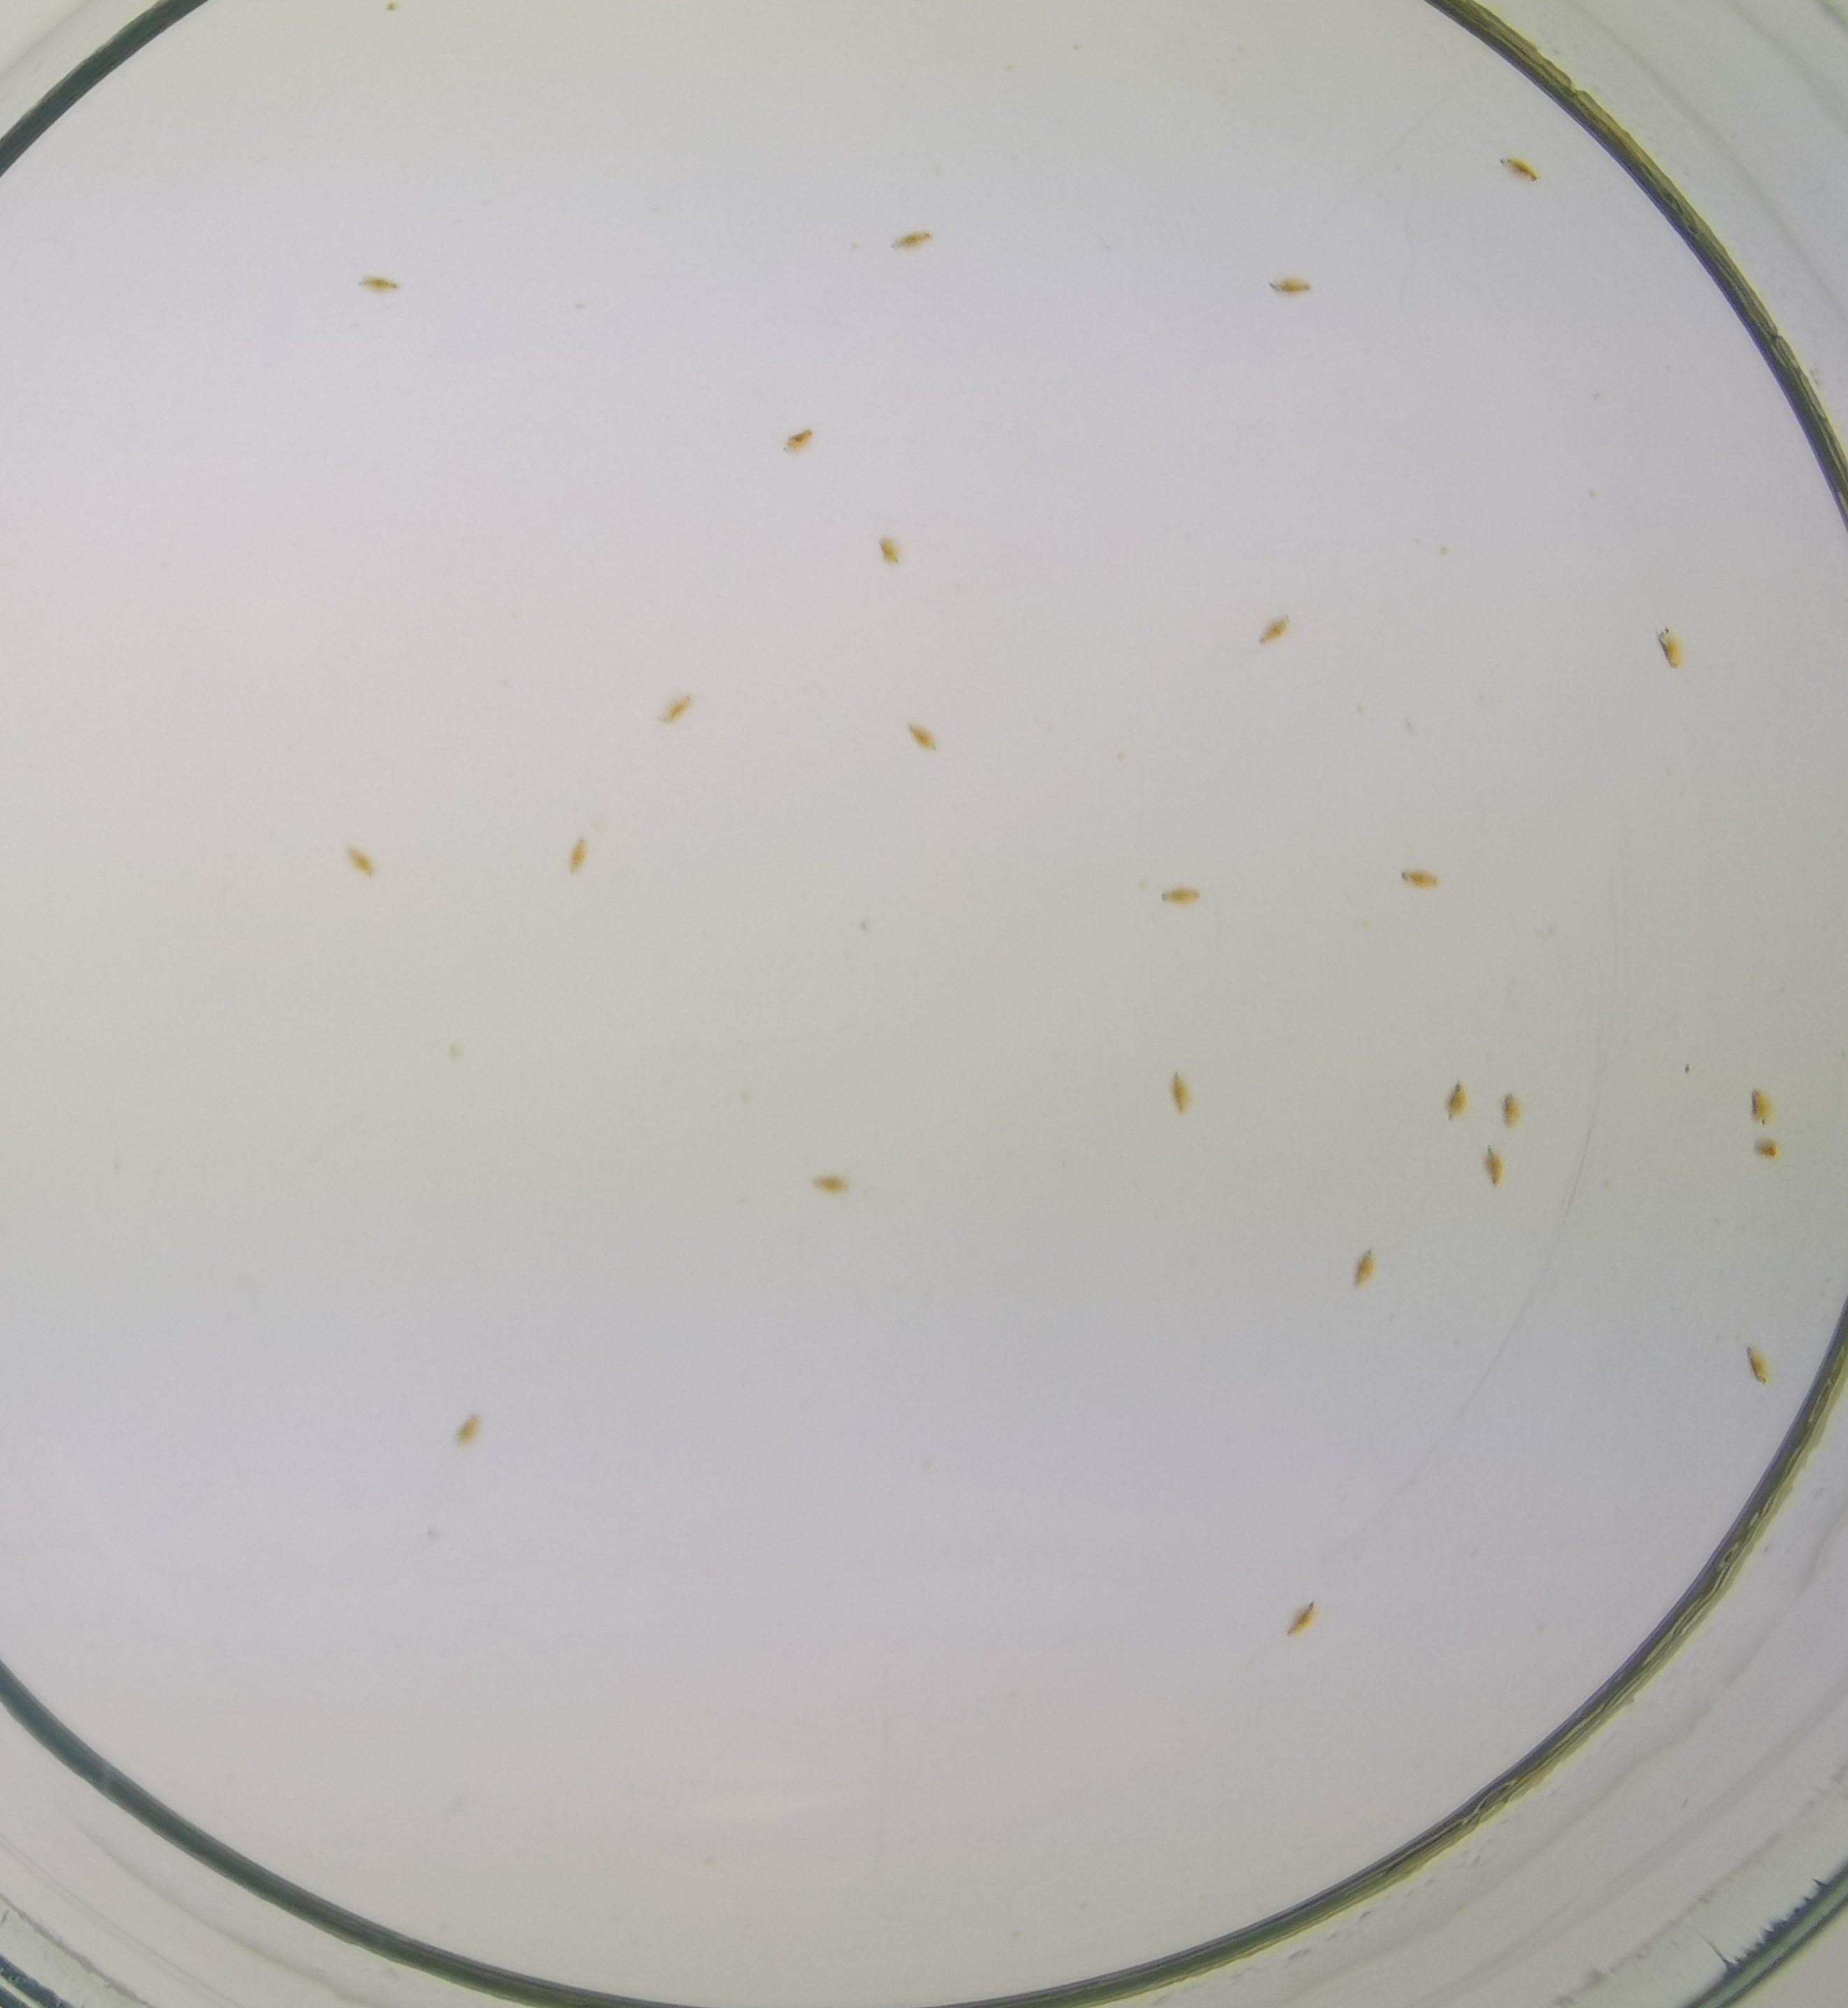D.magna: (1652, 621, 1689, 670), (1741, 1343, 1778, 1389), (1282, 1599, 1320, 1641), (1498, 154, 1546, 187), (1393, 862, 1446, 892), (344, 838, 381, 880), (1168, 1067, 1199, 1116), (657, 687, 696, 726), (1266, 271, 1315, 301), (1351, 1238, 1378, 1293), (1442, 1079, 1472, 1125), (351, 271, 402, 297), (1750, 1079, 1776, 1128), (1259, 610, 1292, 649), (453, 1410, 484, 1448), (906, 719, 939, 754), (566, 833, 591, 880), (1481, 1144, 1507, 1186), (888, 229, 930, 254), (1500, 1088, 1525, 1128), (782, 429, 816, 457), (813, 1172, 850, 1198), (1159, 885, 1201, 908), (876, 533, 904, 567)
